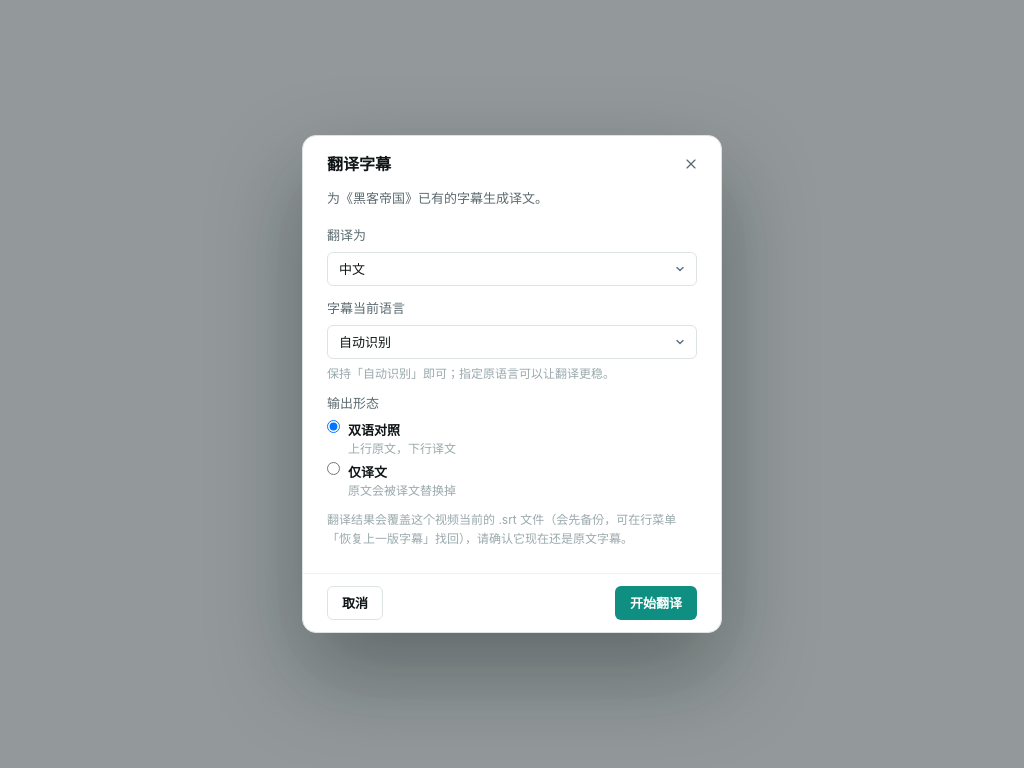
Test: 字幕翻译：后台继续与结果 › MEDIA-08 只有内嵌/其他格式字幕时说明原因，不再引导去生成
Click the button with test id "subtitle-translate-start". click: (656, 603)
box: [615,586,697,620]
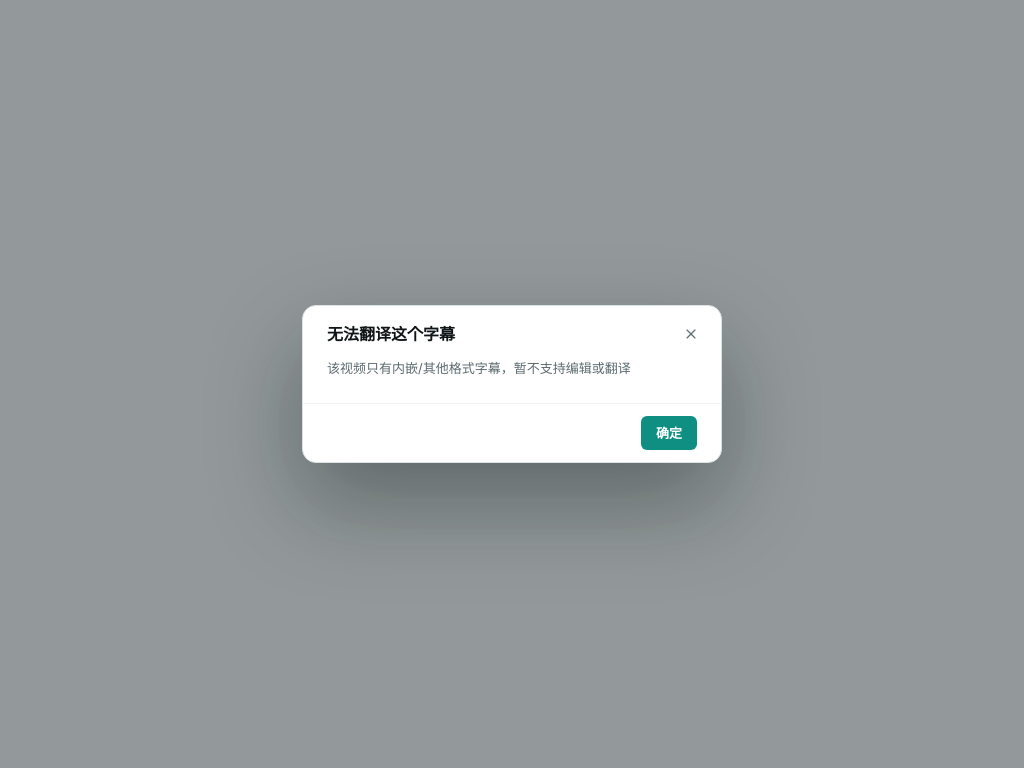
Now the text "无法翻译这个字幕" is shown, box [327,324,455,344]
Now the text with test id "subtitle-translate-msg" reads "该视频只有内嵌/其他格式字幕，暂不支持编辑或翻译", box [327,360,631,376]
